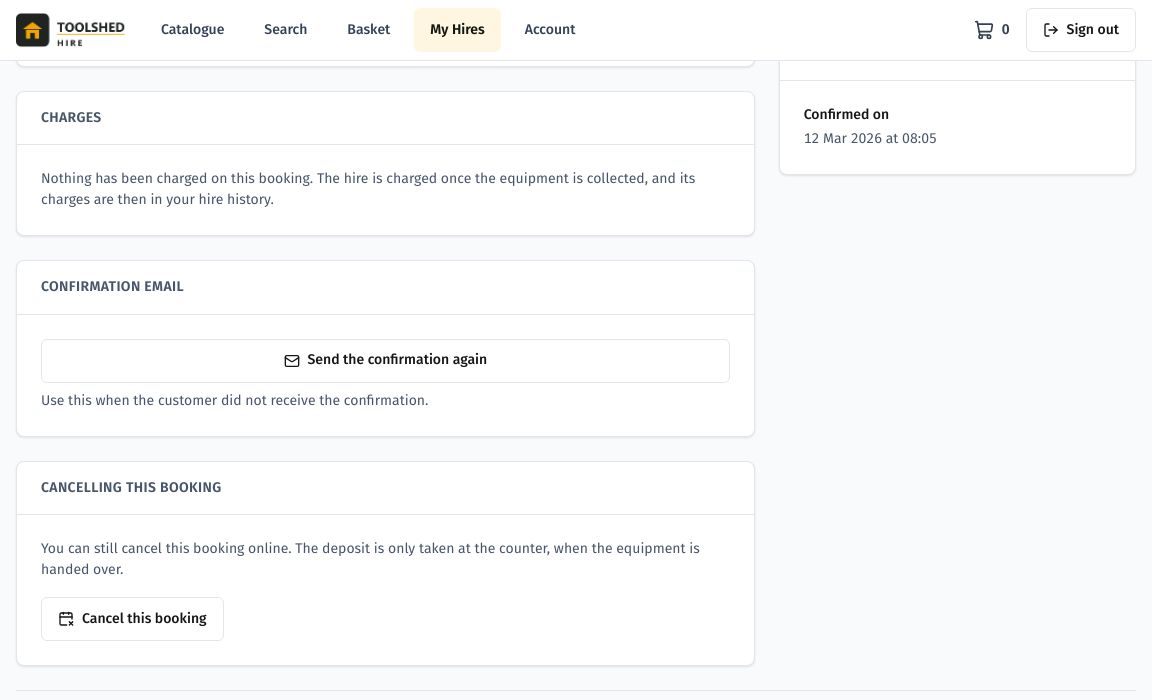
Test: sending the confirmation again › keeps an unrelated server fault generic
(page scrolled)
Click the button "Send the confirmation again".
click(385, 361)  # box [41,339,730,383]
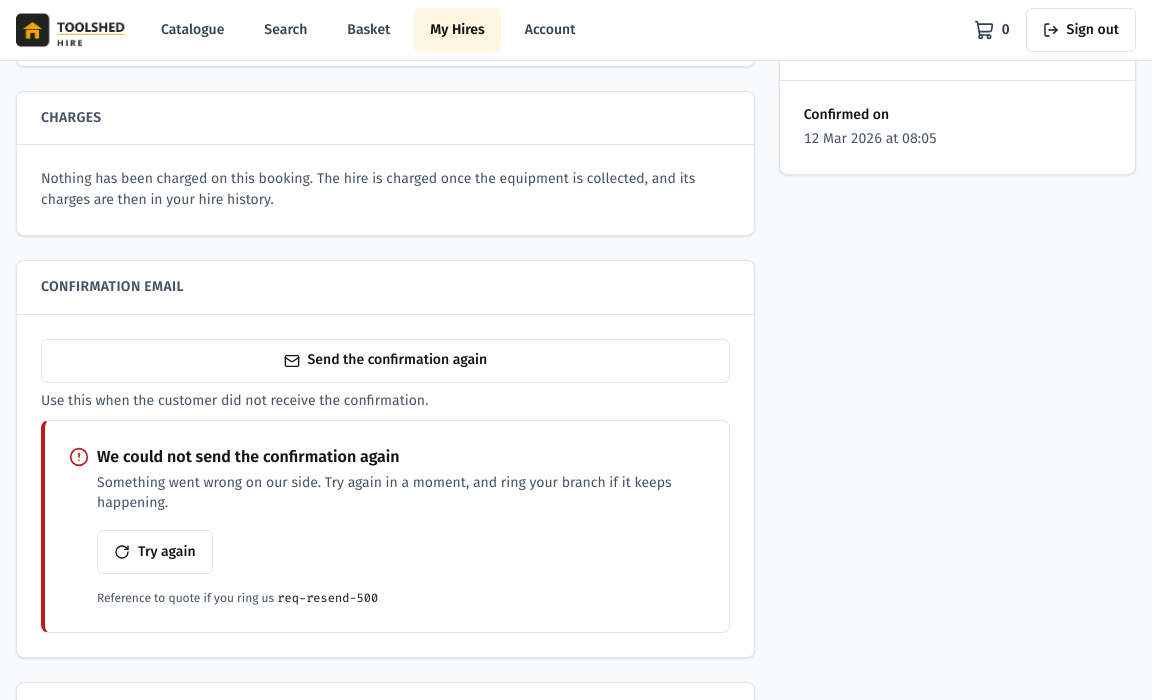
Result: the message that starts with "We could not send the confirmation again" is shown at [97,446,400,466]
Result: the message that starts with "We could not send the confirmation again" shows "Something went wrong on our side" at [97,474,672,511]
Result: the message that starts with "We could not send the confirmation again" shows "req-resend-500" at [277,590,378,606]
